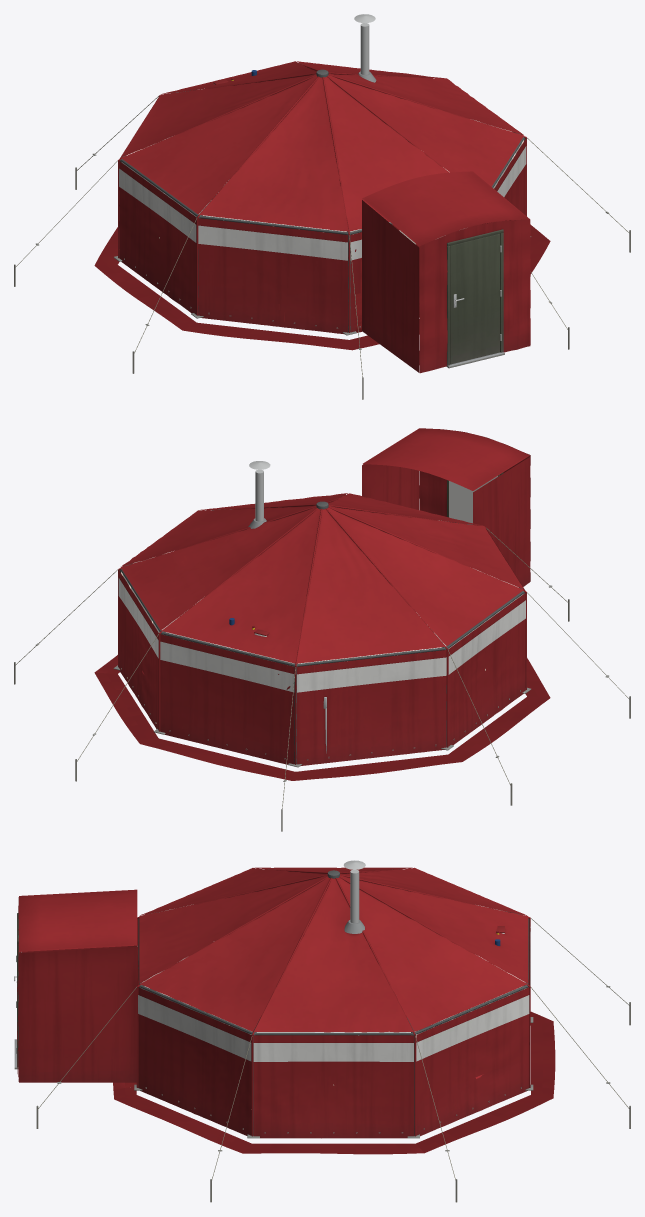
File: polarchief-deployed-fitted-web.glb
3 renders of one model, top to bottom at view 1: azimuth 30°, elevation 25°; view 2: azimuth 150°, elevation 25°; view 3: azimuth 270°, elevation 25°, orthographic. The views are drawn at different scales.
Parts seen in each view (by area): view 1: POLARCHIEF_shelter; view 2: POLARCHIEF_shelter, POLARCHIEF_interior; view 3: POLARCHIEF_shelter.
Boxes of the visible parts, x1,y1,x2,y2 form: POLARCHIEF_shelter: (14, 14, 630, 399); POLARCHIEF_shelter: (14, 428, 630, 831); POLARCHIEF_interior: (121, 520, 523, 670); POLARCHIEF_shelter: (14, 860, 630, 1202).
Size of the model in its own units: 8.52 by 3.81 by 8.85.
58 materials, 24 textured.
